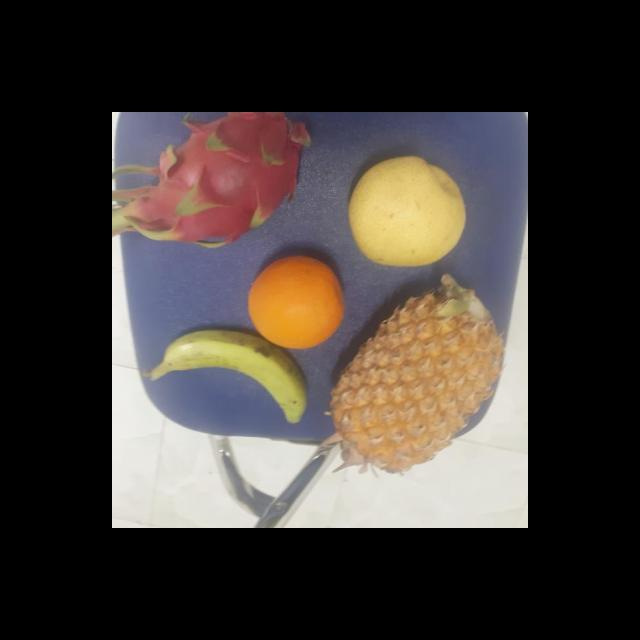banana: (148, 329, 320, 425)
orange: (244, 253, 350, 349)
pear: (344, 153, 472, 270)
pineapple: (333, 277, 503, 468)
pitaya: (133, 112, 320, 244)
